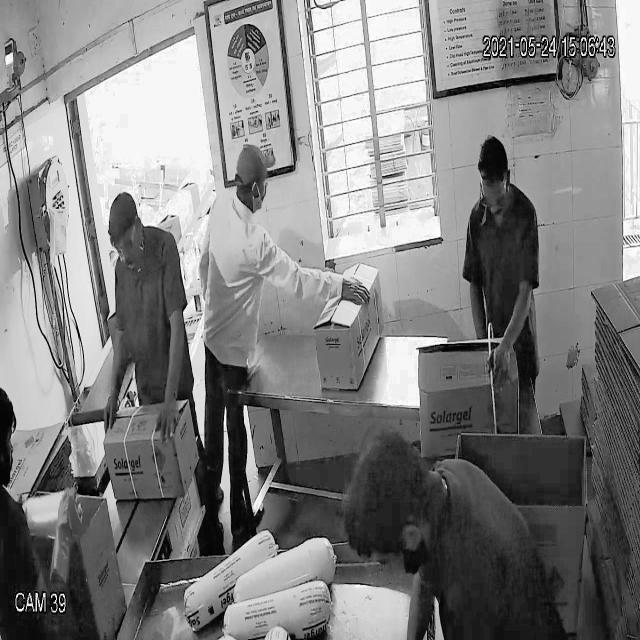glasses: (108, 230, 140, 262)
